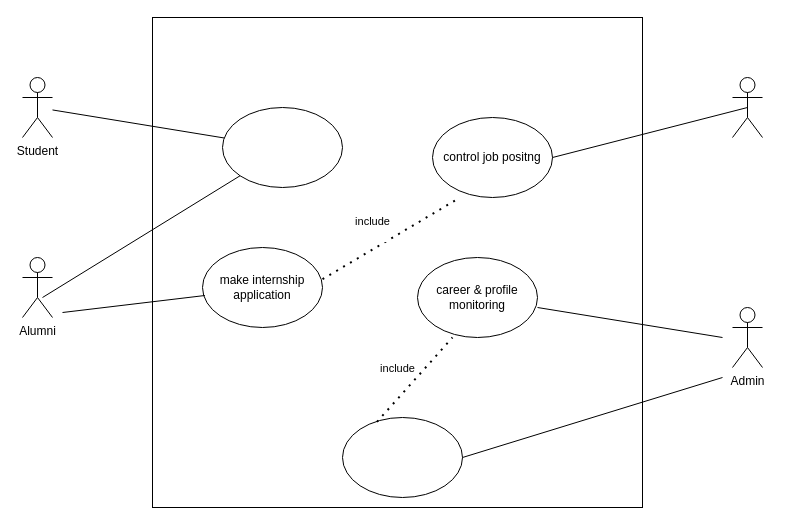
This 789x525 diagram has some shape labels left out. The shapes that lost their labels are listed below. From the top down, each one's centre as x and y in pixels, then its label:
the point at 747,107: company
the point at 282,147: Match Mentor Student
the point at 402,457: Analytics & admin reporting
